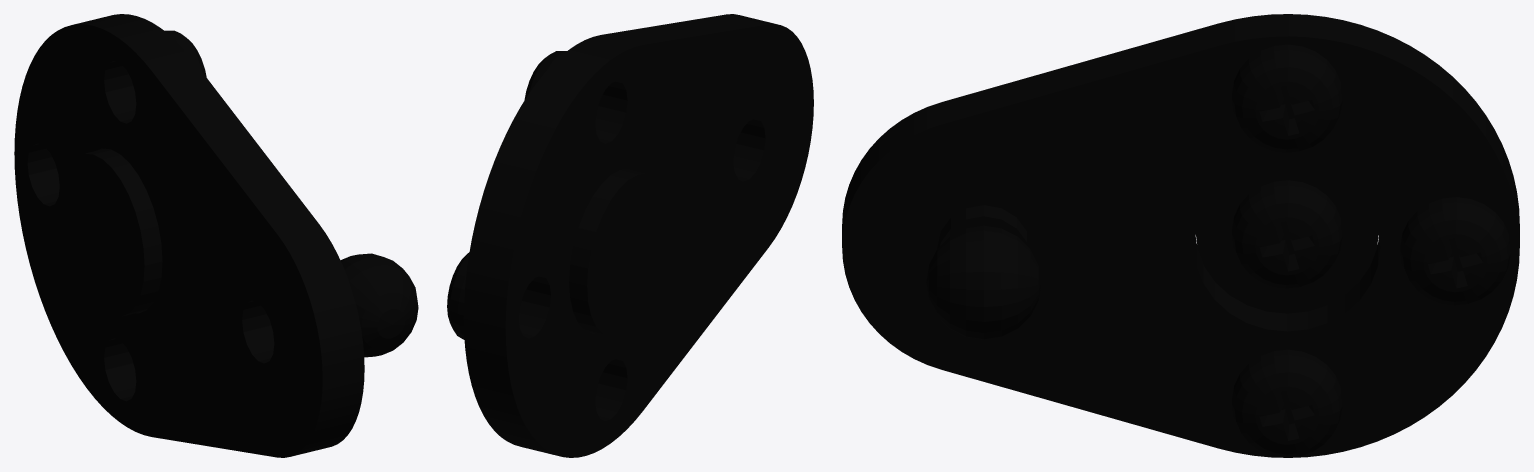
Rendered from servo_horn_vis.obj.
3 views of the same model, side by side, from view 1: azimuth 30°, elevation 25°; view 2: azimuth 150°, elevation 25°; view 3: azimuth 270°, elevation 25° (orthographic). The views are drawn at different scales.
Size of the model in its own units: 0.0098 by 0.021 by 0.0306.
1 material, 1 textured.
